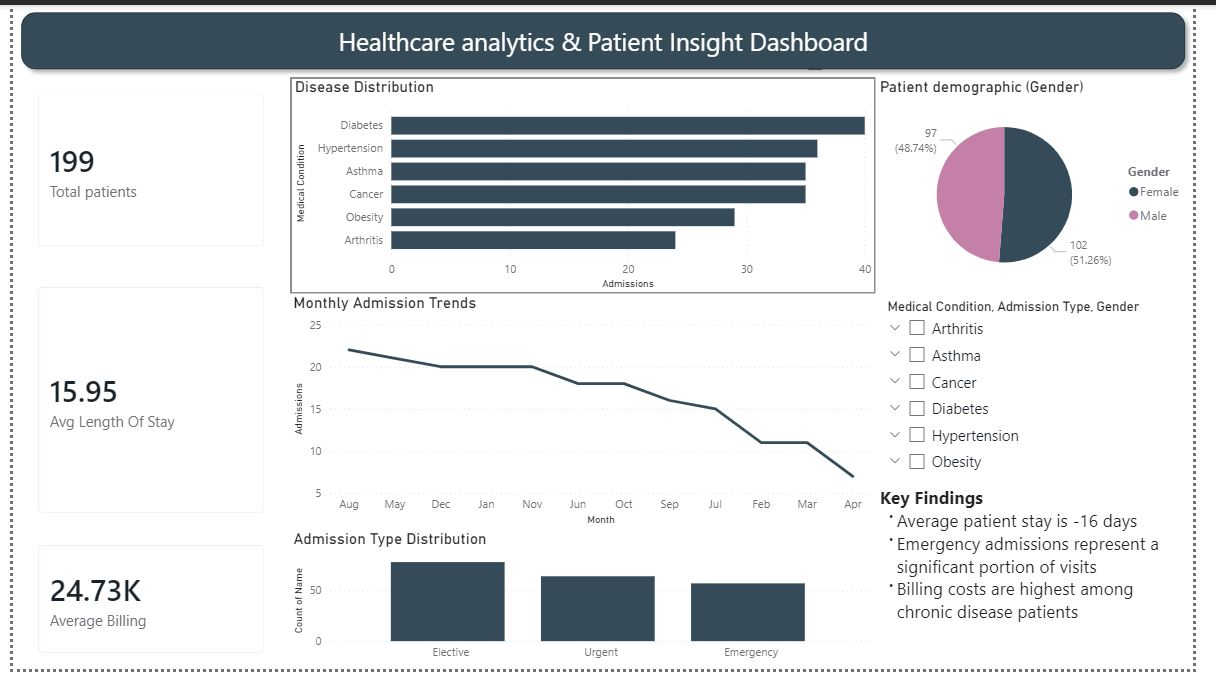

The page's visual inventory and layout, read from the dashboard file:
{"tool":"powerbi","page":{"name":"Page 1","canvas":[1280,720],"ordinal":1},"visuals":[{"type":"cardVisual","fields":{"Data":["CountNonNull(Sheet1.Name)"]},"box":[9.8,79.7,279.8,200.1],"z":0},{"type":"cardVisual","fields":{"Data":["Avg(Sheet1.Length Of Stay)"]},"box":[9.8,289.5,279.8,279.8],"z":1},{"type":"cardVisual","fields":{"Data":["Sheet1.Average Billing"]},"box":[9.8,569.3,279.8,151.3],"z":2},{"type":"clusteredBarChart","title":"Disease Distribution","fields":{"Category":["Sheet1.Medical Condition"],"Y":["CountNonNull(Sheet1.Name)"]},"box":[300.9,79.7,634.4,234.2],"z":3},{"type":"pieChart","title":"Patient demographic (Gender)","fields":{"Category":["Sheet1.Gender"],"Y":["CountNonNull(Sheet1.Name)"]},"box":[935.3,79.7,344.8,234.2],"z":4},{"type":"lineChart","title":"Monthly Admission Trends","fields":{"Category":["Sheet1.Month"],"Y":["CountNonNull(Sheet1.Name)"]},"box":[299.3,313.9,636,255.4],"z":5},{"type":"columnChart","title":"Admission Type Distribution","fields":{"Category":["Sheet1.Admission Type"],"Y":["CountNonNull(Sheet1.Name)"]},"box":[299.3,569.3,636,151.3],"z":6},{"type":"slicer","fields":{"Values":["Sheet1.Medical Condition","Sheet1.Admission Type","Sheet1.Gender"]},"box":[935.3,313.9,344.8,203.3],"z":7},{"type":"shape","box":[0,0,1280.1,79.7],"z":8},{"type":"textbox","box":[935.3,517.2,344.8,203.3],"z":9}]}

Visuals, with their boxes in screenshot pixels (x1, y1, x2, y2), scaled from the page's 1280x720 canvas onto the 1216x680 screenshot:
cardVisual - CountNonNull(Sheet1.Name): left=9, top=75, right=275, bottom=264
cardVisual - Avg(Sheet1.Length Of Stay): left=9, top=273, right=275, bottom=538
cardVisual - Sheet1.Average Billing: left=9, top=538, right=275, bottom=679
"Disease Distribution" clusteredBarChart: left=286, top=75, right=889, bottom=296
"Patient demographic (Gender)" pieChart: left=889, top=75, right=1215, bottom=296
"Monthly Admission Trends" lineChart: left=284, top=296, right=889, bottom=538
"Admission Type Distribution" columnChart: left=284, top=538, right=889, bottom=679
slicer - Sheet1.Medical Condition x Sheet1.Admission Type: left=889, top=296, right=1215, bottom=488
shape: left=0, top=0, right=1215, bottom=75
textbox: left=889, top=488, right=1215, bottom=679
